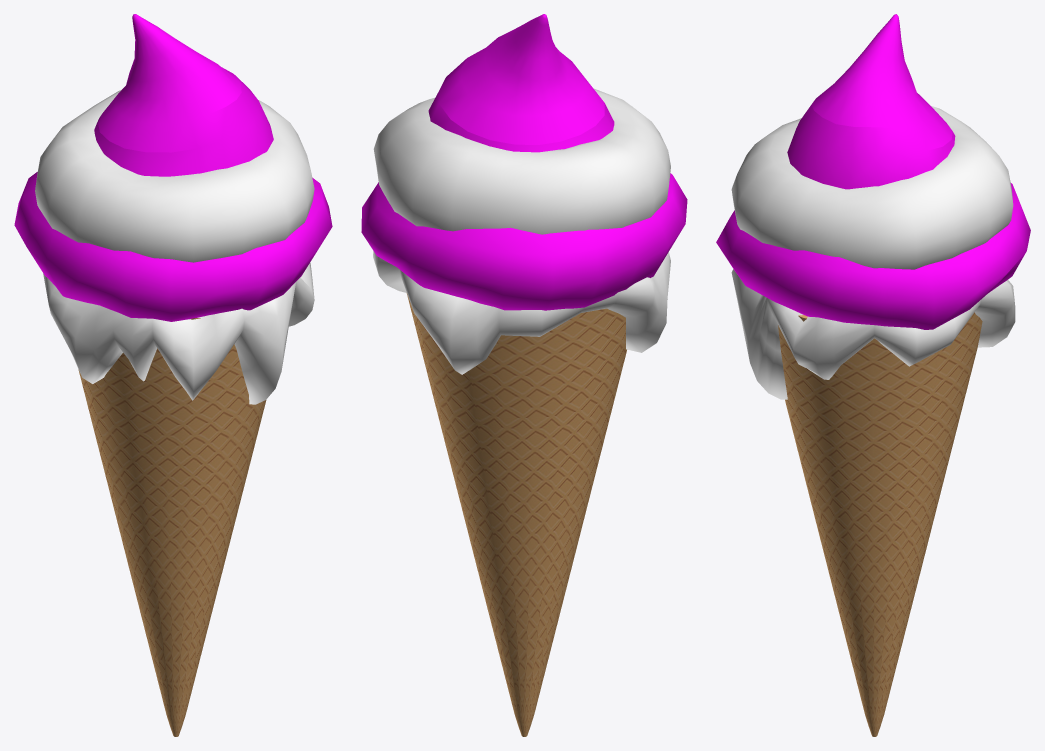
The model's file is helado_cono.fbx.
3 renders of one model, left to right at view 1: azimuth 30°, elevation 25°; view 2: azimuth 150°, elevation 25°; view 3: azimuth 270°, elevation 25°, orthographic. The views are drawn at different scales.
Visible parts, largest first — view 1: objCornet; view 2: objCornet; view 3: objCornet.
Boxes of the visible parts, left/top/right/bottom form: objCornet: left=14, top=14, right=332, bottom=736; objCornet: left=361, top=14, right=687, bottom=736; objCornet: left=716, top=14, right=1030, bottom=736.
Bounding box in the file's own units: 1136 × 2874 × 1160.
